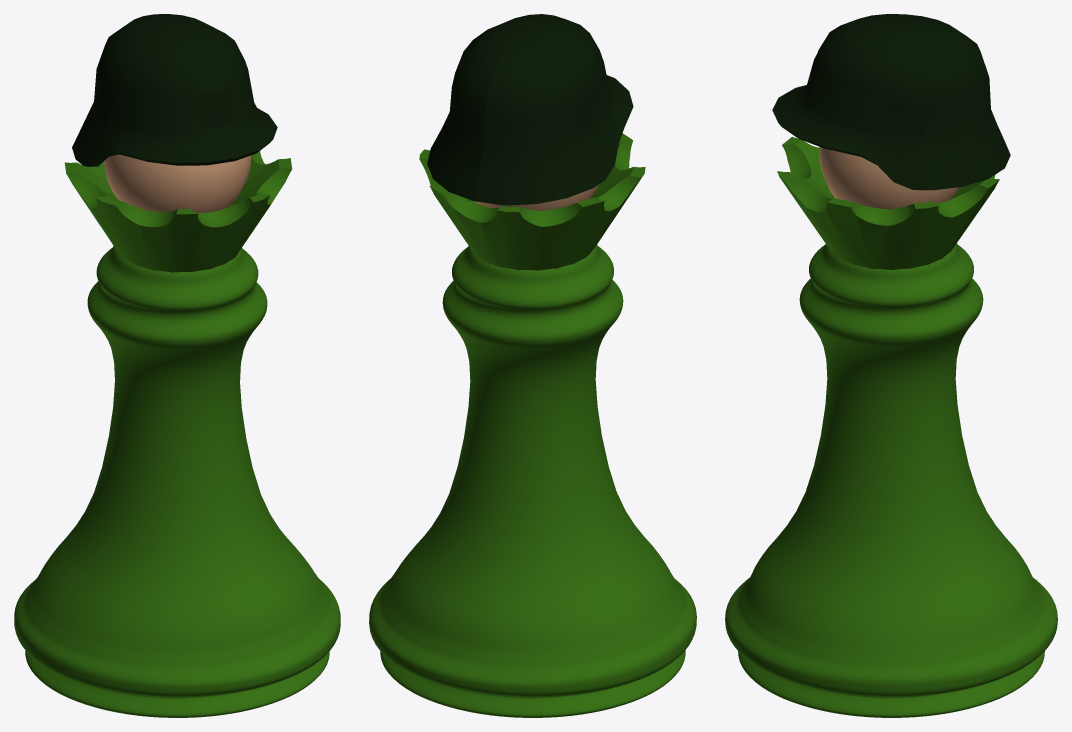
File: Rainha Branca.FBX
3 views of the same model, side by side, from view 1: azimuth 30°, elevation 25°; view 2: azimuth 150°, elevation 25°; view 3: azimuth 270°, elevation 25° (orthographic).
Parts seen in each view (by area): view 1: polySurface17, 4cd75640.o001, 4930d698.o001; view 2: polySurface17, 4cd75640.o001; view 3: polySurface17, 4cd75640.o001, 4930d698.o001.
Part boxes in pixels (left/top/right/bottom): polySurface17: left=14, top=151, right=340, bottom=717; 4cd75640.o001: left=72, top=14, right=277, bottom=166; 4930d698.o001: left=97, top=86, right=231, bottom=129; polySurface17: left=369, top=133, right=696, bottom=717; 4cd75640.o001: left=427, top=14, right=633, bottom=205; polySurface17: left=725, top=137, right=1057, bottom=717; 4cd75640.o001: left=772, top=14, right=1010, bottom=190; 4930d698.o001: left=804, top=60, right=928, bottom=146.
Bounding box in the file's own units: 42.34 × 91.79 × 42.94.
